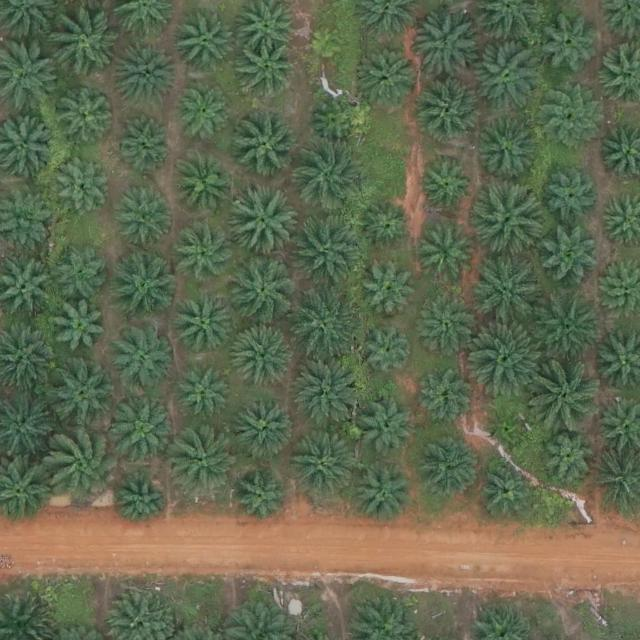Kelapa_Sawit: (45, 428, 123, 506), (529, 358, 599, 429), (472, 43, 542, 114), (294, 216, 364, 287), (286, 429, 356, 500), (229, 108, 299, 179), (531, 291, 601, 361), (472, 179, 542, 249), (471, 255, 541, 325), (470, 324, 540, 394), (413, 11, 483, 81), (295, 140, 365, 210), (288, 290, 358, 360), (293, 360, 363, 430), (225, 188, 295, 258), (226, 255, 296, 325), (170, 426, 240, 496), (46, 5, 116, 75), (45, 359, 115, 429), (538, 426, 600, 489), (535, 226, 597, 289), (476, 118, 538, 181), (422, 80, 484, 143), (418, 437, 480, 500), (360, 43, 422, 106), (352, 464, 414, 527), (234, 396, 296, 459), (173, 11, 235, 74), (173, 151, 235, 214), (174, 224, 236, 287), (172, 294, 234, 357), (112, 182, 174, 245), (112, 256, 174, 319), (110, 324, 172, 387), (55, 82, 117, 145), (233, 323, 295, 385), (112, 45, 174, 107), (113, 401, 175, 463), (541, 96, 596, 151), (540, 14, 595, 69), (419, 296, 474, 351), (362, 266, 417, 321), (359, 324, 414, 379), (308, 96, 363, 151), (241, 43, 296, 98), (234, 473, 289, 528), (175, 88, 230, 143), (116, 115, 171, 170), (545, 168, 599, 223), (479, 463, 533, 518), (419, 160, 473, 215), (422, 231, 476, 286), (417, 369, 471, 424), (358, 201, 412, 256), (359, 398, 413, 453), (179, 366, 233, 421), (113, 473, 167, 528), (53, 158, 107, 213), (53, 246, 107, 301), (52, 301, 106, 356), (490, 411, 529, 450), (307, 25, 345, 64)
